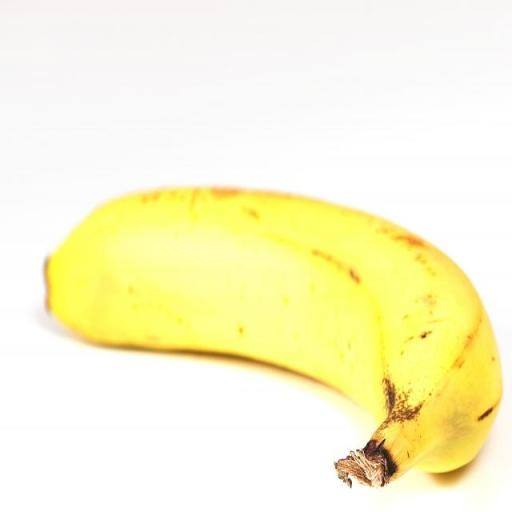fruit: (46, 188, 501, 486)
